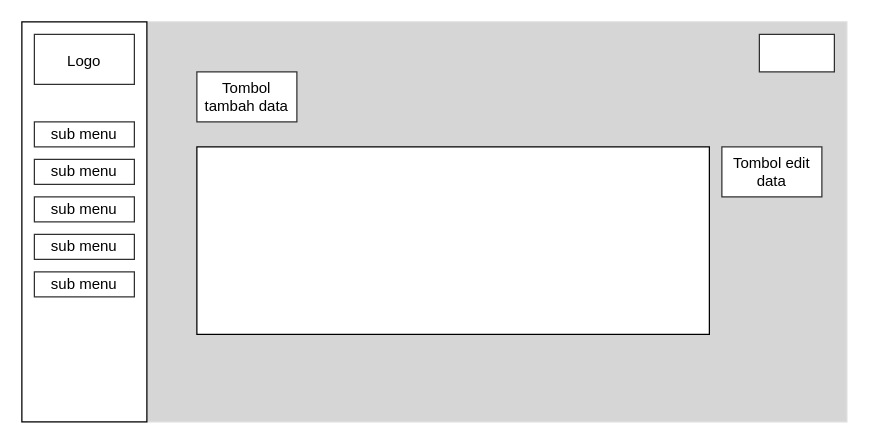
The diagram is 869 pixels wide and 444 high, and some of its shapes have lost their labels. Here are the shapes that lost their labels. From the top down, the centre of each, then its label:
At pixel 796 52: "dropdown logout".
At pixel 452 240: "Tabel Data Kasasi".
